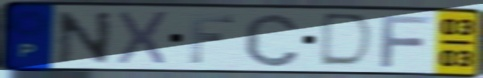C: (242, 11, 302, 69)
D: (315, 11, 377, 70)
F: (378, 14, 435, 69), (187, 13, 236, 65)
N: (54, 10, 116, 65)
X: (114, 9, 172, 68)
